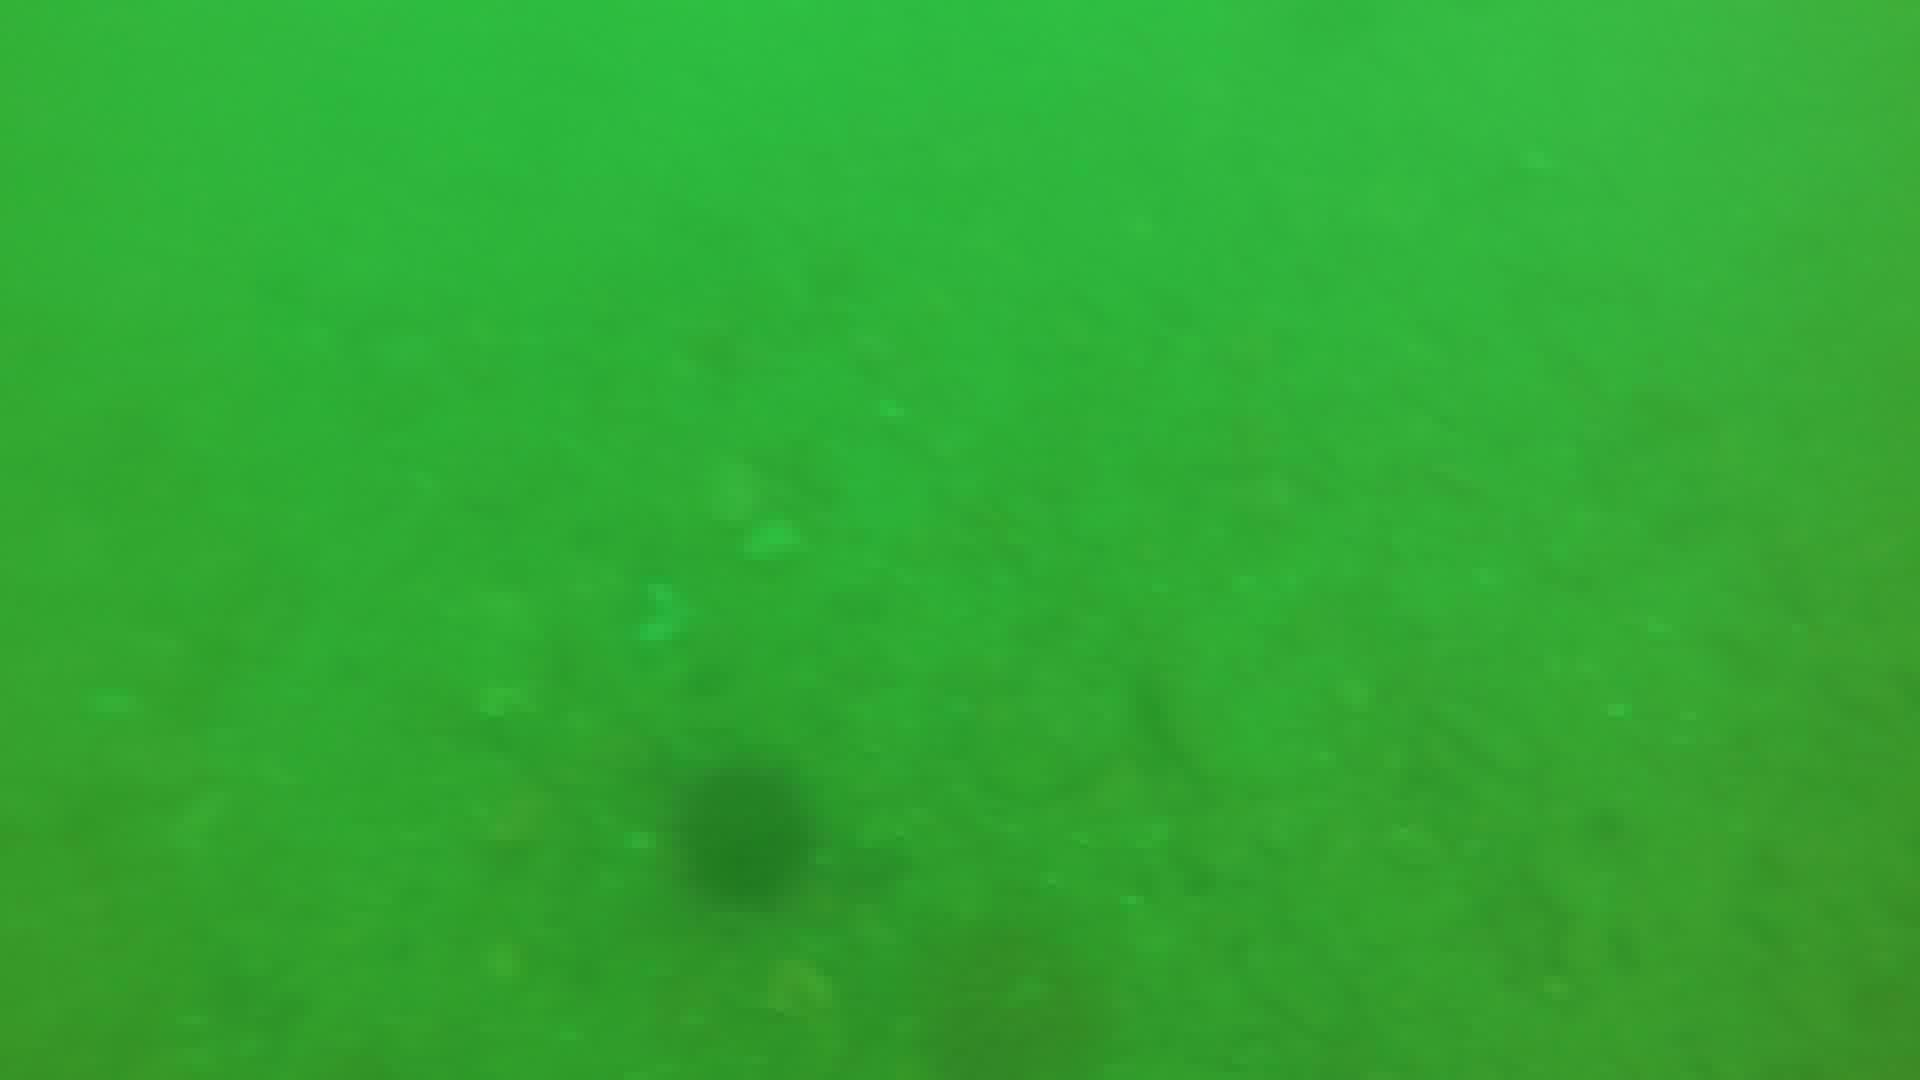echinus: (667, 742, 825, 914)
scallop: (642, 583, 691, 644), (749, 521, 800, 558)
